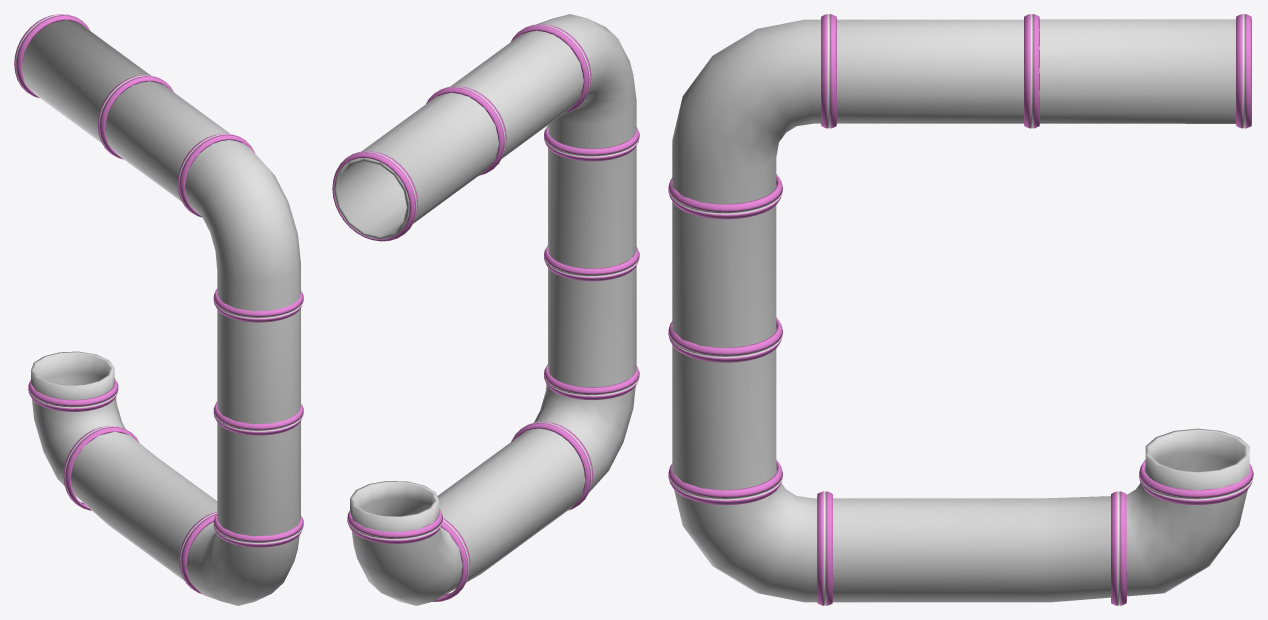
File: WrongPipe.fbx
The picture shows the model from 3 angles, left to right: view 1: azimuth 30°, elevation 25°; view 2: azimuth 150°, elevation 25°; view 3: azimuth 270°, elevation 25°; orthographic projection. The views are drawn at different scales.
Visible parts, largest first — view 1: WrongPipe; view 2: WrongPipe; view 3: WrongPipe.
Boxes of the visible parts, x1=… form: WrongPipe: x1=14, y1=14, x2=303, y2=605; WrongPipe: x1=332, y1=14, x2=639, y2=605; WrongPipe: x1=668, y1=14, x2=1253, y2=605.
Bounding box in the file's own units: 436 × 2437 × 2224.
